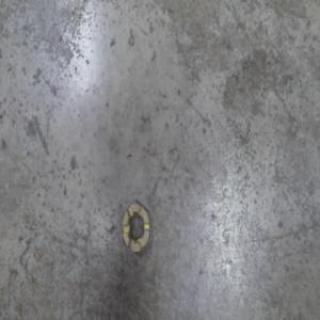Nuttrack_idkeyframe: (120, 197, 151, 256)
